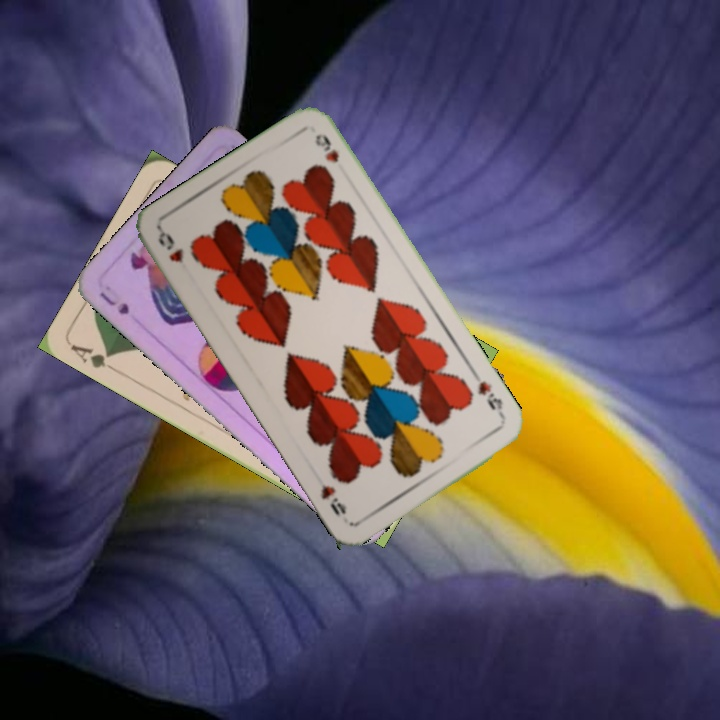GA: (66, 340, 121, 376)
H9: (469, 369, 507, 421), (153, 226, 186, 266)
SU: (95, 288, 133, 317)
